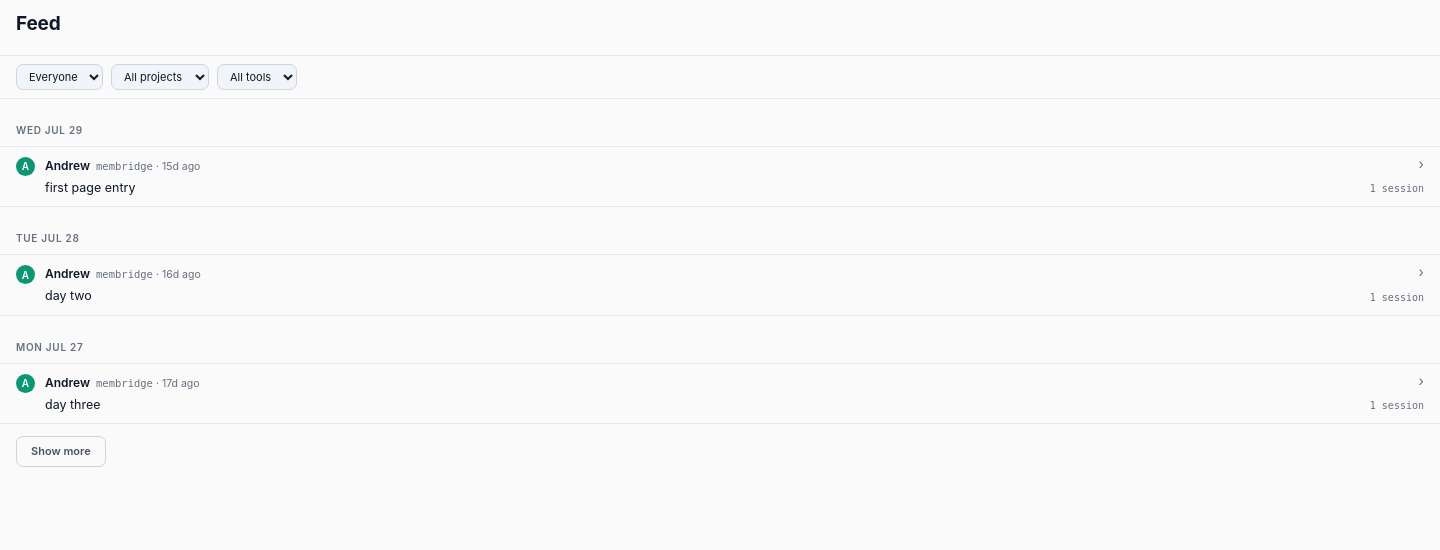
FeedPage › "Show more" pages backwards using the previous page's cursor, keeping the earlier page visible
The image size is (1440, 550).
Expected: the text "first page entry" is shown, [45,180,136,194]
Click the button "Show more" at point(61, 451), box [16,436,106,466]
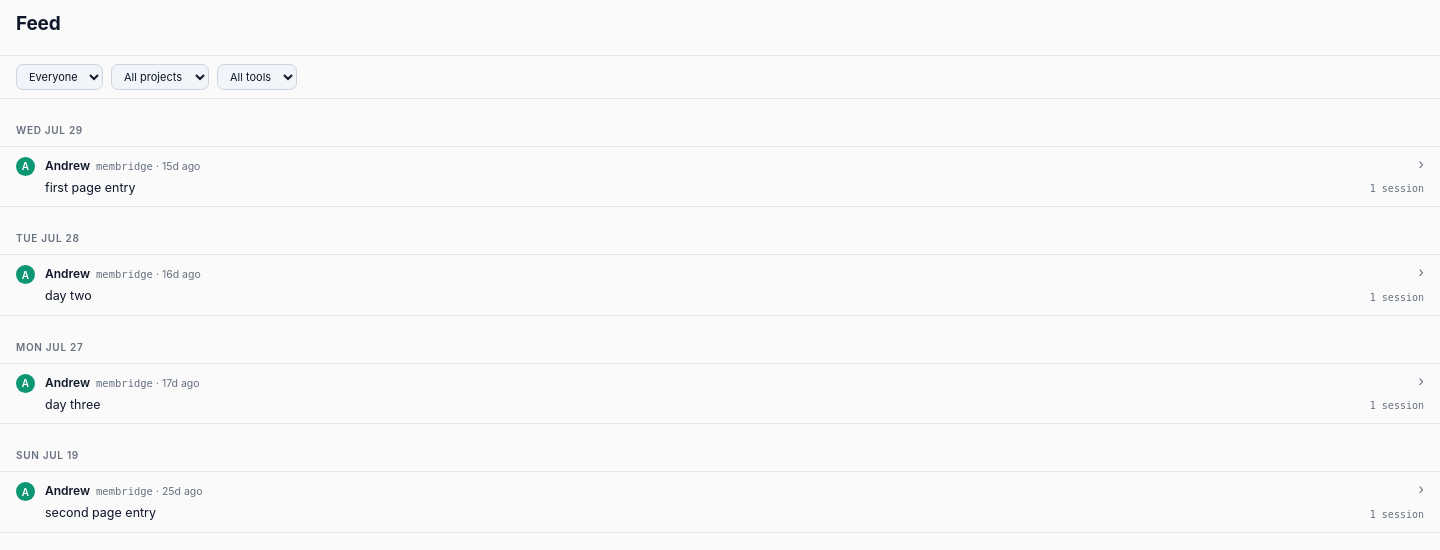
Expected: the text "first page entry" is shown, [45,180,136,194]
Expected: the text "second page entry" is shown, [45,505,156,520]
Expected: the button "Show more" is gone
